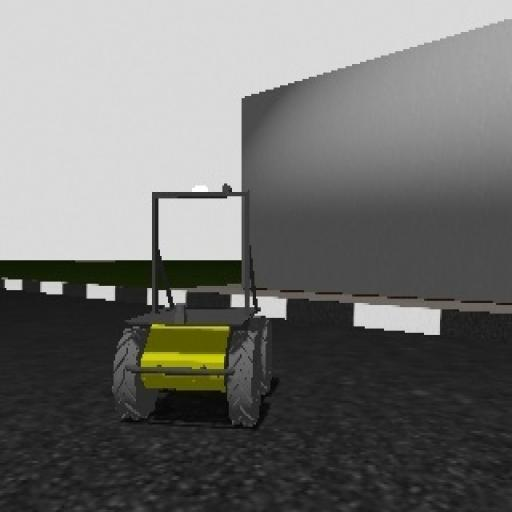huskya200: (97, 164, 304, 441)
